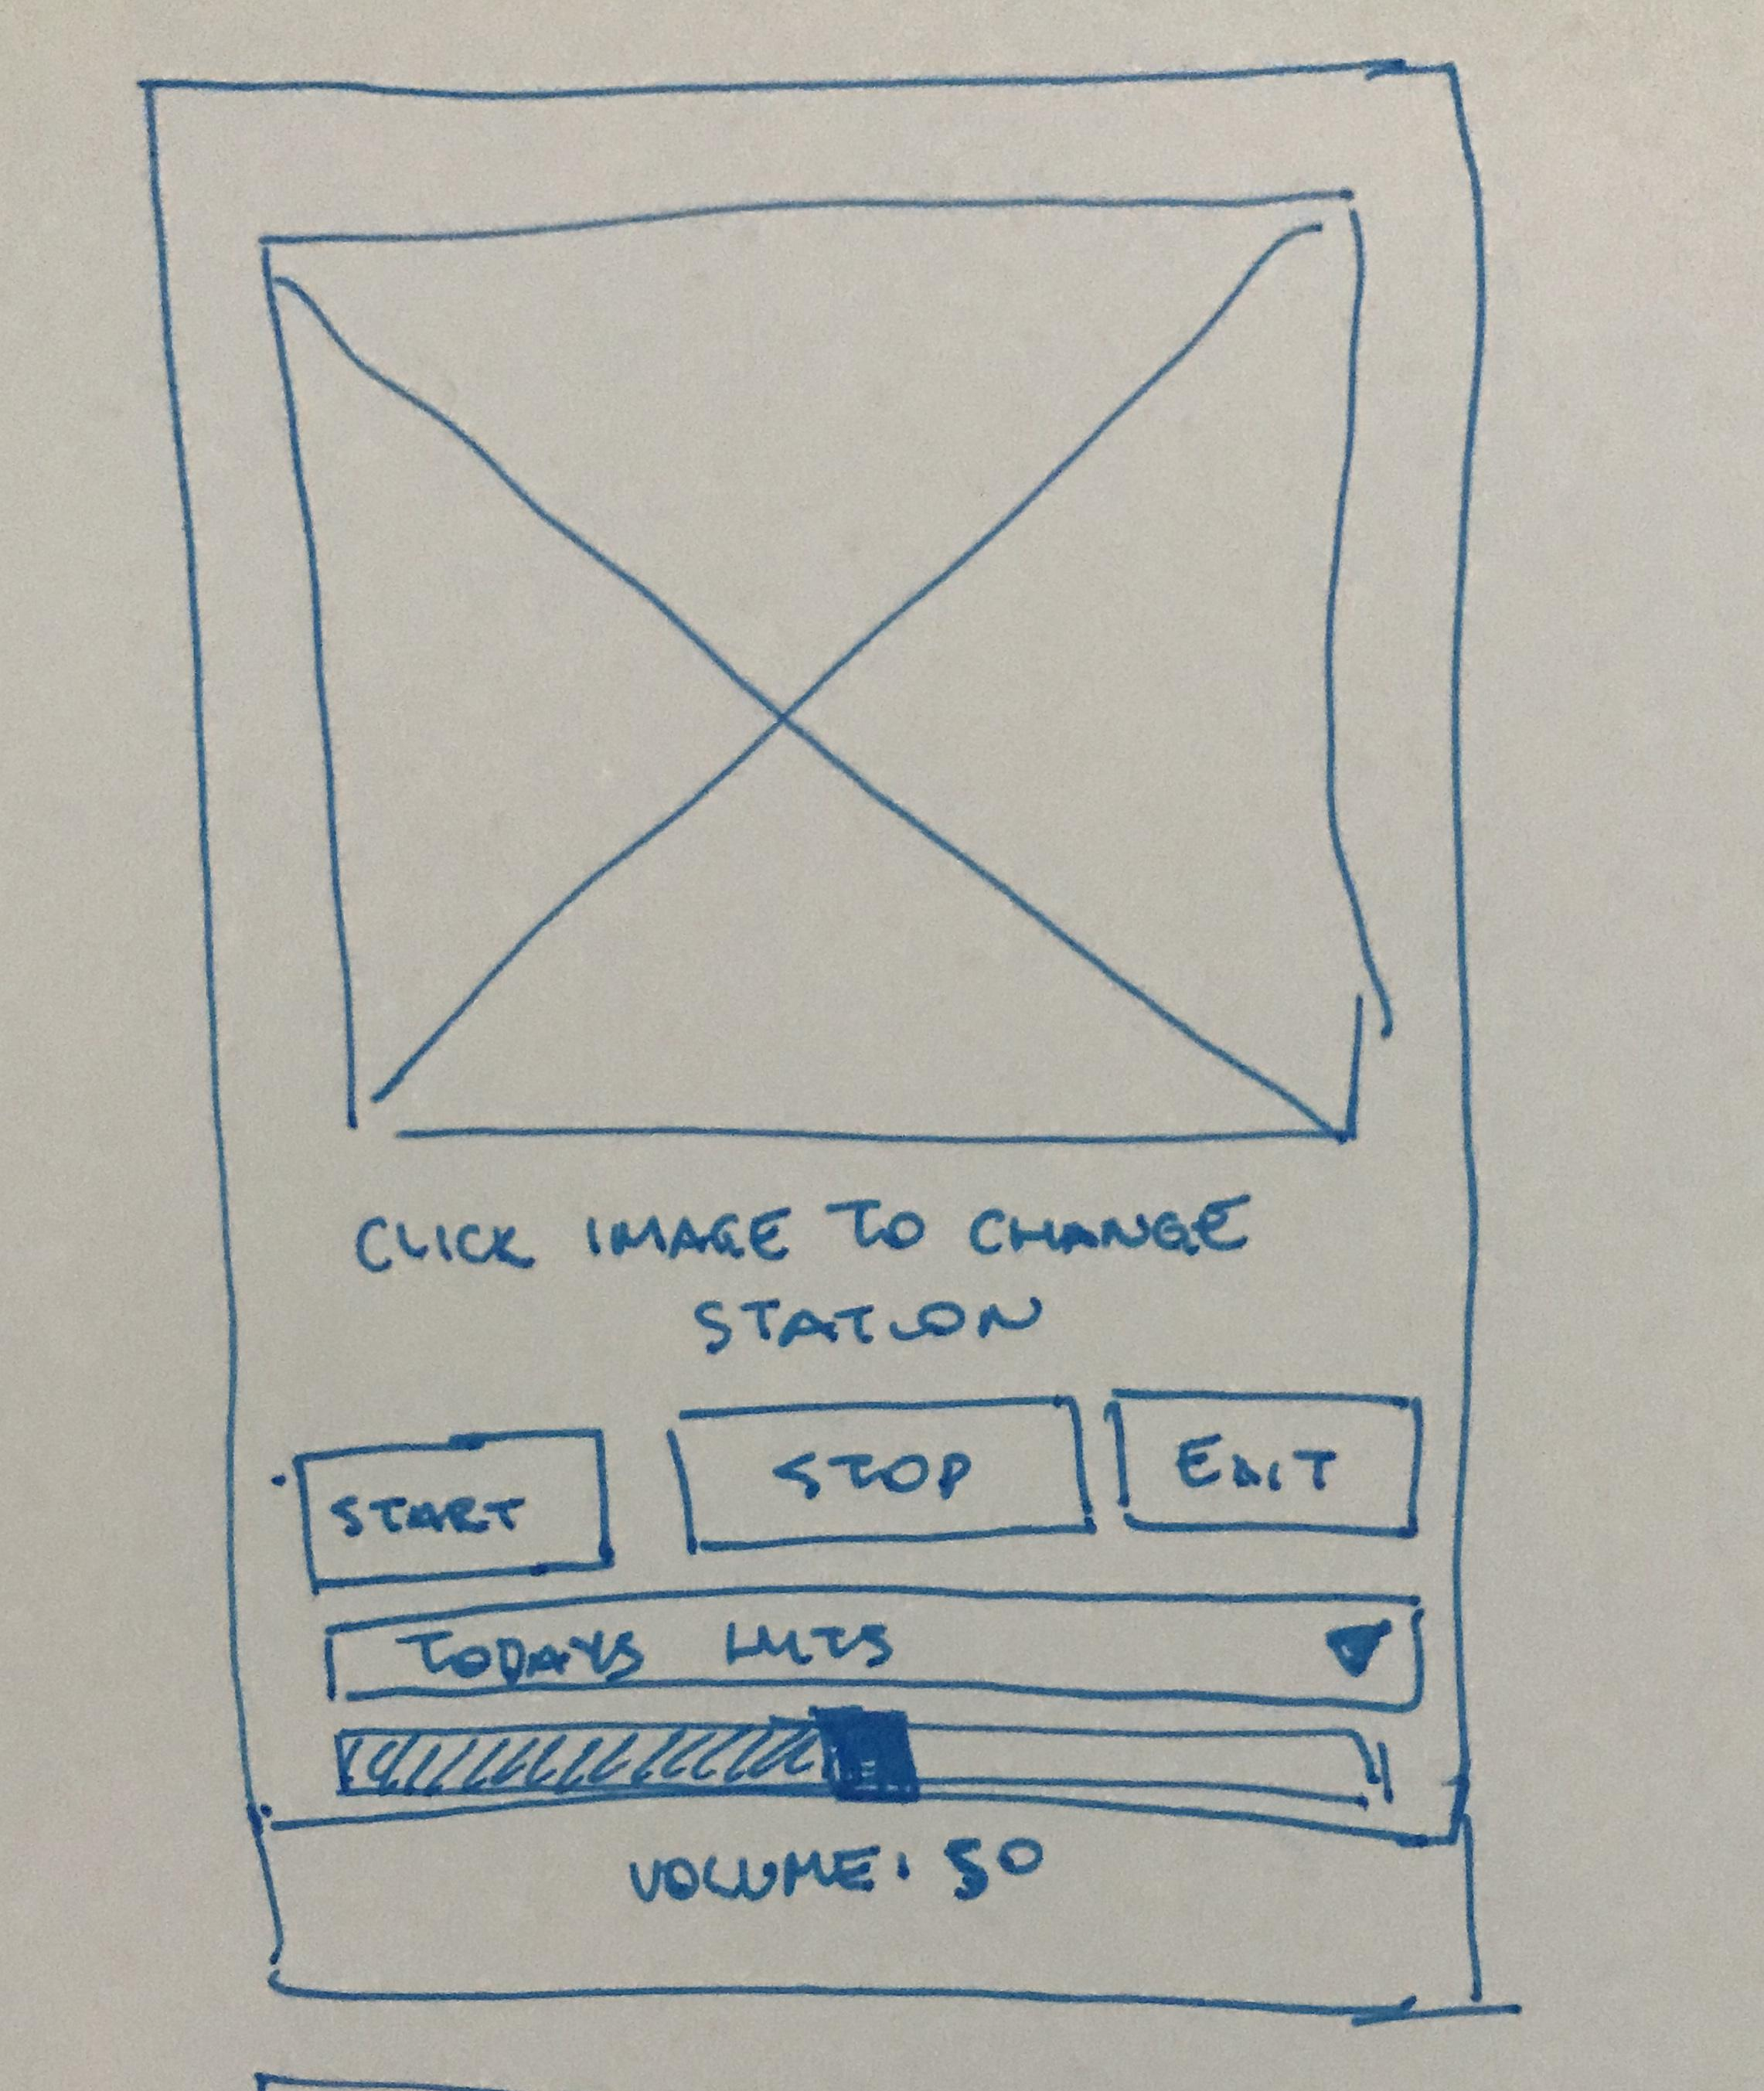Button: (665, 1391, 1097, 1554), (294, 1426, 614, 1585), (1111, 1389, 1424, 1535)
Image: (264, 191, 1379, 1150)
Label: (348, 1195, 1258, 1354), (623, 1830, 1057, 1911)
ListPicker: (327, 1582, 1424, 1717)
Screen: (143, 59, 1486, 2021)
Slider: (338, 1703, 1393, 1811)
